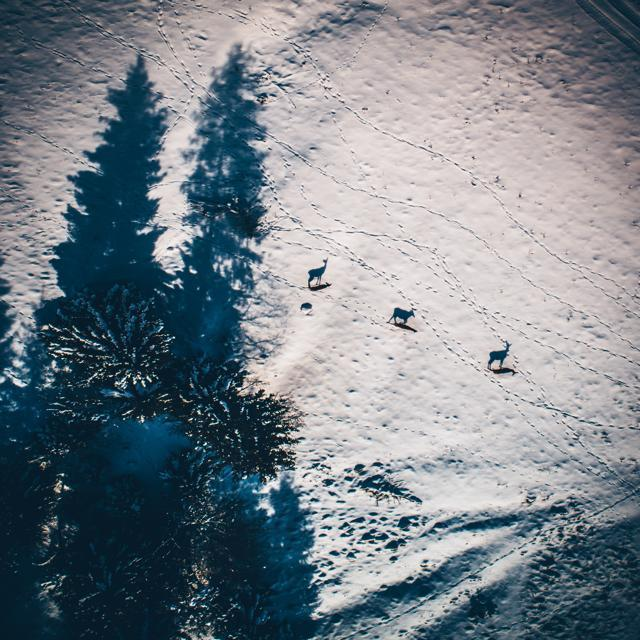Deer: (294, 246, 336, 296), (481, 332, 515, 382), (391, 300, 425, 340)
